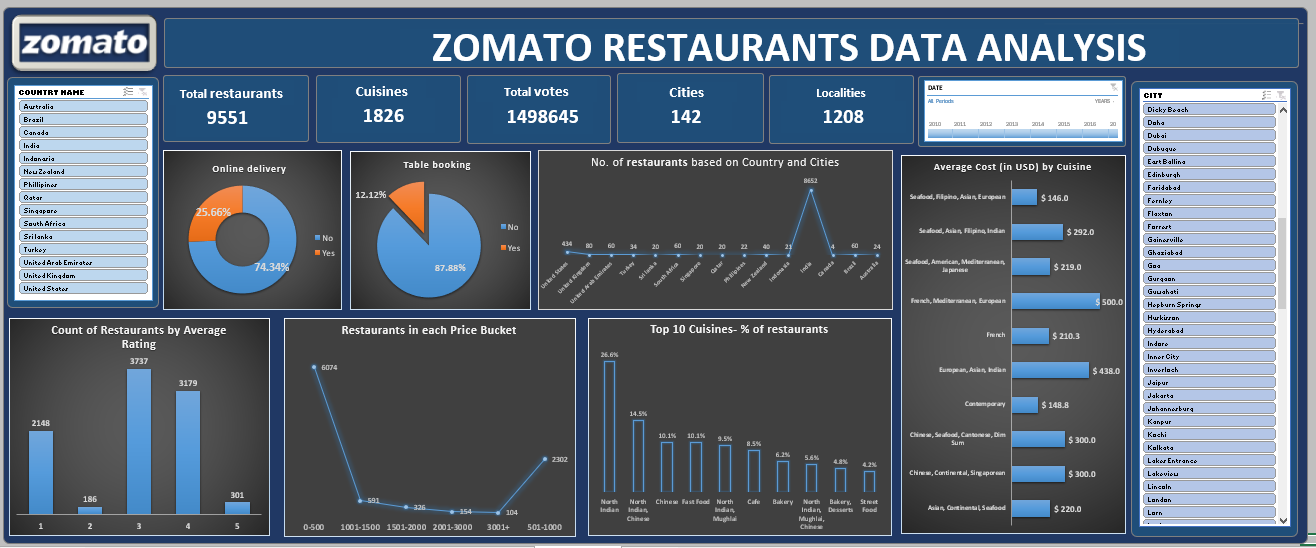

Layout of this report page (visuals, bound fields, positions):
{"tool":"tableau","page":{"name":"Dashboard 1","canvas":[1000,1000],"units":"permille","ordinal":0},"visuals":[{"type":"dashboard-object","box":[869.4,9.1,123.9,68.8]},{"type":"title","box":[6,14.5,988.1,72.5]},{"type":"text","box":[874.6,87,119.4,32.6]},{"type":"filter","title":"1","param":"[federated.1c66vmg1hbwwpp16xe0wp0gmyl41].[yr:Datekey_Opening:ok]","box":[638.8,88.8,121.6,132.2]},{"type":"worksheet","title":"KPI 1","mark":"Automatic","box":[9.1,90,166.6,138.1]},{"type":"worksheet","title":"KPI 2 ","mark":"Automatic","box":[178,90,166.6,138.1]},{"type":"worksheet","title":"KPI 3","mark":"Automatic","box":[347,90,177.4,138.1]},{"type":"filter","title":"1","param":"[federated.1c66vmg1hbwwpp16xe0wp0gmyl41].[none:country name:nk]","box":[531.3,90.6,105.2,135.9]},{"type":"worksheet","title":"CUSINES","mark":"Automatic","rows":["Cuisines"],"cols":["RestaurantID"],"box":[777.5,90.6,220.8,496.4]},{"type":"worksheet","title":"AVG","mark":"Bar","rows":["RestaurantID"],"cols":["country name"],"box":[289.2,233.7,240.7,356.9]},{"type":"worksheet","title":"RM","mark":"Automatic","rows":["RestaurantID"],"cols":["opening date"],"box":[4.2,236,279.4,357.1]},{"type":"worksheet","title":"RATING","mark":"Automatic","rows":["Rating (bin)"],"cols":["RestaurantID"],"box":[546.3,242.8,226.8,342.4]},{"type":"worksheet","title":"1","mark":"Automatic","box":[2.7,599.6,376,394.9]},{"type":"worksheet","title":"ONLINE","mark":"Pie","box":[389.3,599.6,309.3,389.5]},{"type":"worksheet","title":"TABLE","mark":"Pie","box":[704.9,599.6,295.1,391.3]}]}

Visuals, with their boxes on the dashboard's canvas, which has no fixed pixel size, in thousandths of its width and height (x1, y1, x2, y2). These are canvas units, not pixel positions in the 1316x548 screenshot, which may show the page scaled, cropped or inside an application window:
dashboard-object: (869,9,993,78)
title: (6,14,994,87)
text: (875,87,994,120)
"1" filter: (639,89,760,221)
"KPI 1" worksheet: (9,90,176,228)
"KPI 2 " worksheet: (178,90,345,228)
"KPI 3" worksheet: (347,90,524,228)
"1" filter: (531,91,636,226)
"CUSINES" worksheet: (778,91,998,587)
"AVG" worksheet (Bar marks): (289,234,530,591)
"RM" worksheet: (4,236,284,593)
"RATING" worksheet: (546,243,773,585)
"1" worksheet: (3,600,379,994)
"ONLINE" worksheet (Pie marks): (389,600,699,989)
"TABLE" worksheet (Pie marks): (705,600,1000,991)
